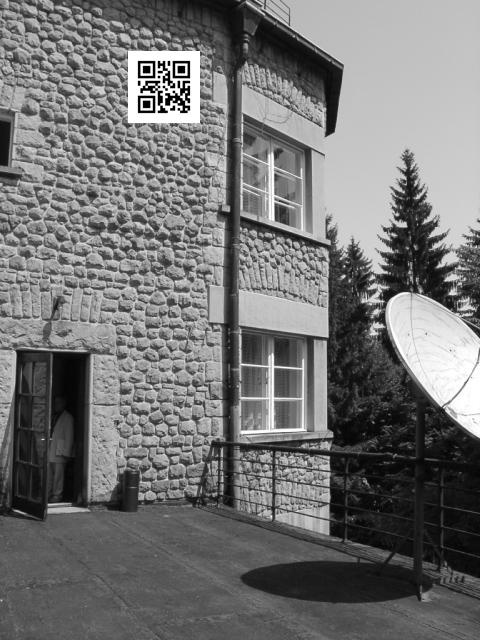qr_code: (128, 50, 199, 120)
